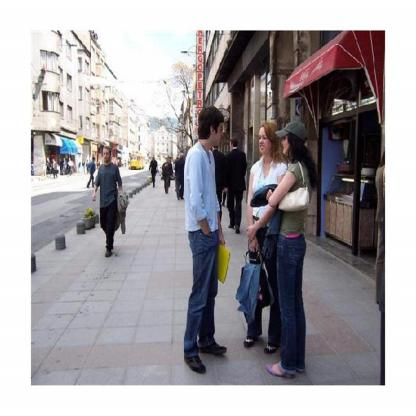face: (211, 123, 224, 146), (259, 133, 271, 155), (281, 135, 294, 155), (104, 153, 110, 163), (230, 143, 234, 151), (167, 161, 169, 164), (154, 158, 155, 160)
